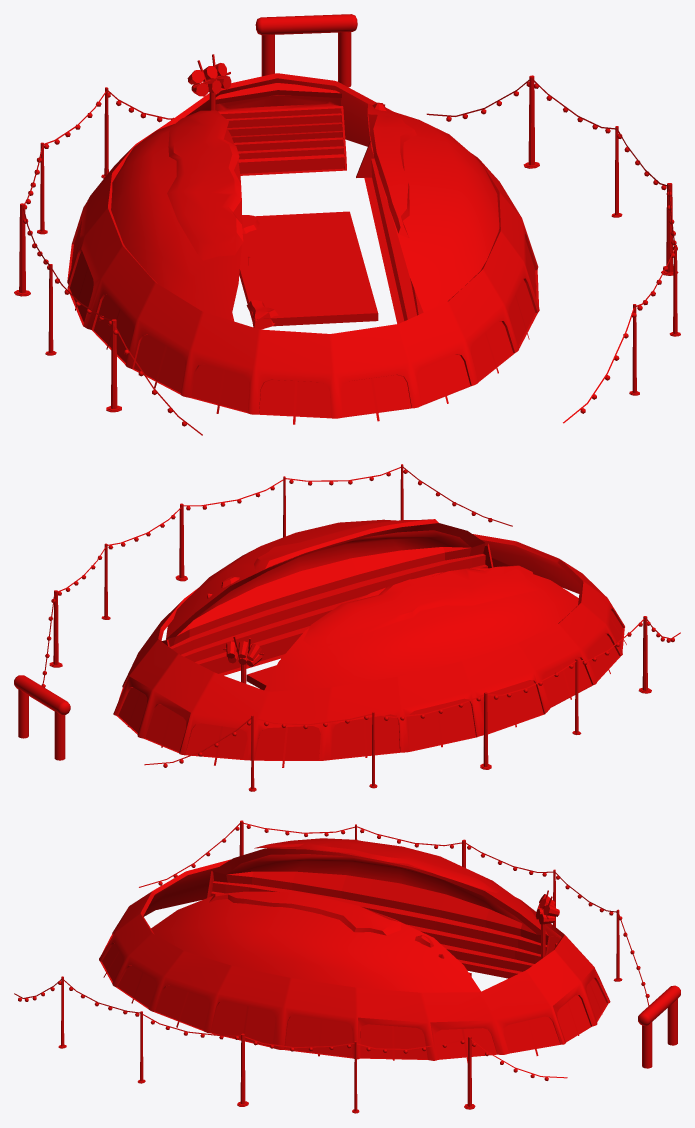
Rendered from Neighborhood_JamboreeSquareLocked.glb.
The picture shows the model from 3 angles, top to bottom: view 1: azimuth 30°, elevation 25°; view 2: azimuth 150°, elevation 25°; view 3: azimuth 270°, elevation 25°; orthographic projection. The views are drawn at different scales.
Parts seen in each view (by area): view 1: Neighborhood_JamboreeSquareLocked_Building_JamboreeRoof; view 2: Neighborhood_JamboreeSquareLocked_Building_JamboreeRoof; view 3: Neighborhood_JamboreeSquareLocked_Building_JamboreeRoof.
Boxes of the visible parts, bbox=[...] form: Neighborhood_JamboreeSquareLocked_Building_JamboreeRoof: bbox=[14, 14, 680, 435]; Neighborhood_JamboreeSquareLocked_Building_JamboreeRoof: bbox=[14, 464, 680, 791]; Neighborhood_JamboreeSquareLocked_Building_JamboreeRoof: bbox=[14, 820, 680, 1113].
Size of the model in its own units: 33.69 by 7.98 by 42.18.
